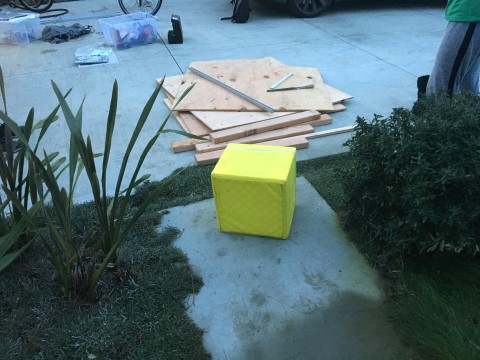cube: (210, 142, 297, 240)
